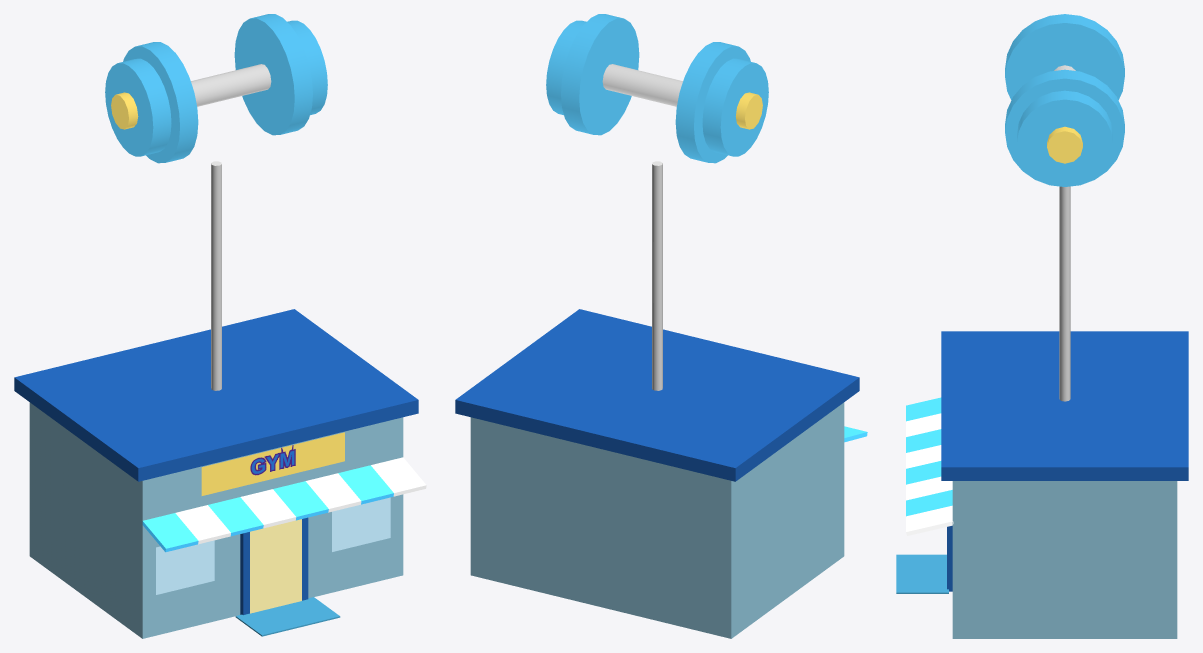
File: gym.glb
The picture shows the model from 3 angles, left to right: view 1: azimuth 30°, elevation 25°; view 2: azimuth 150°, elevation 25°; view 3: azimuth 270°, elevation 25°; orthographic projection.
Visible parts, largest first — view 1: gym, sign; view 2: gym, sign; view 3: gym, sign.
Part boxes in pixels (<box>): gym: <box>14,161,426,638</box>; sign: <box>105,14,327,163</box>; gym: <box>455,161,867,638</box>; sign: <box>546,14,768,163</box>; gym: <box>896,186,1188,638</box>; sign: <box>1005,14,1124,186</box>.
Bounding box in the file's own units: 8.6 × 15.6 × 7.8.
19 materials, 1 textured.
